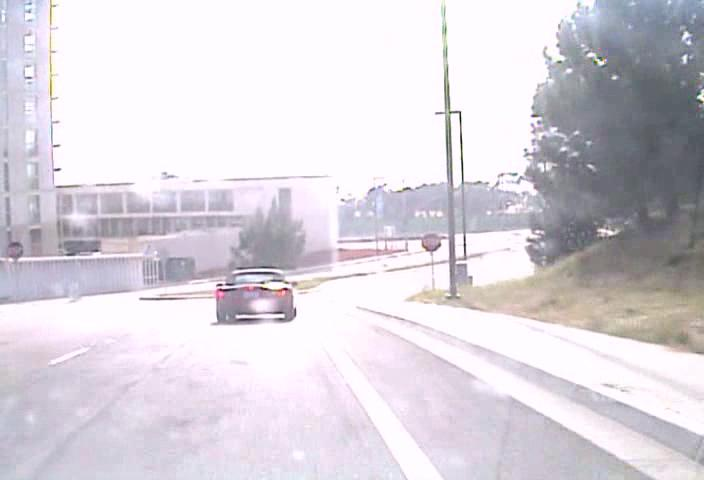stop: (421, 232, 441, 252)
